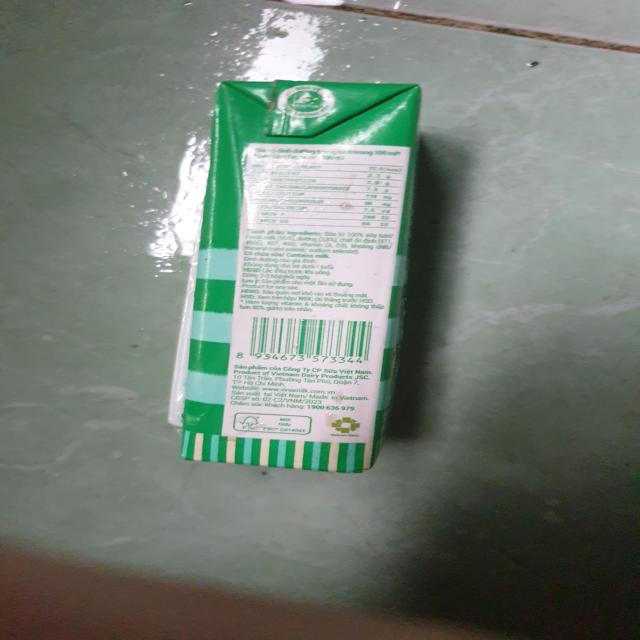Vina: (165, 79, 433, 479)
